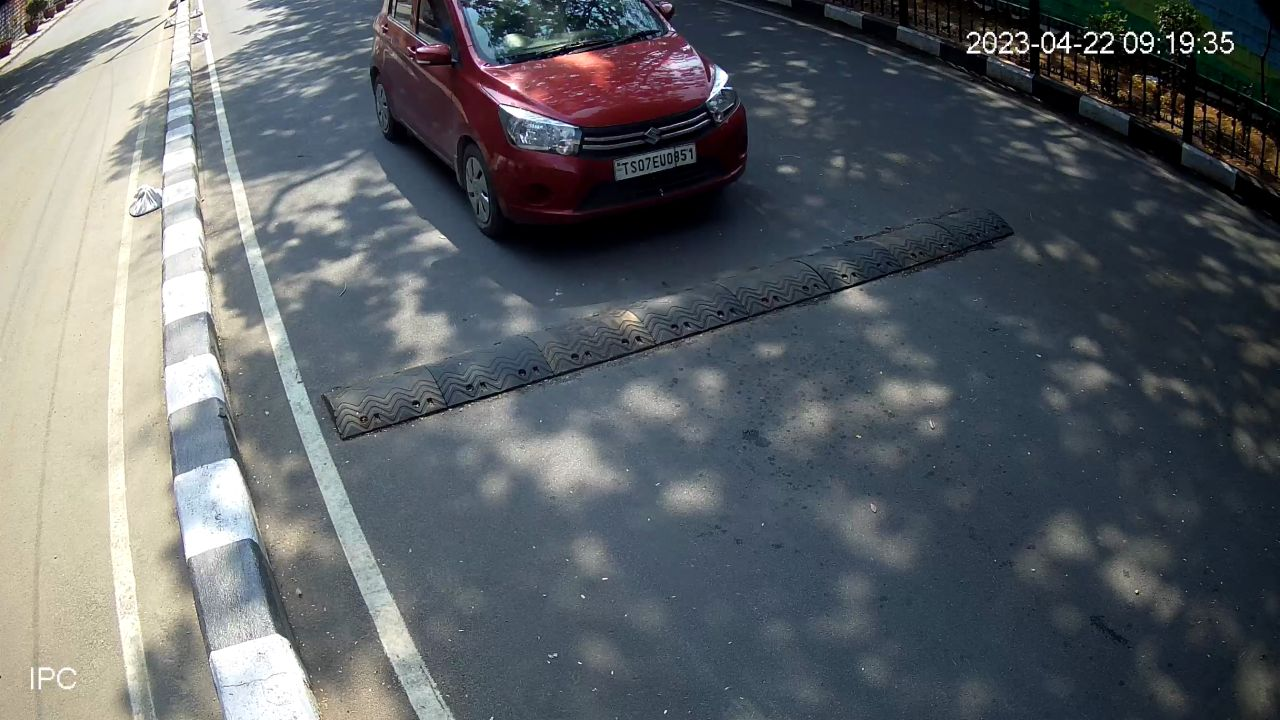license_plate: (612, 135, 703, 188)
